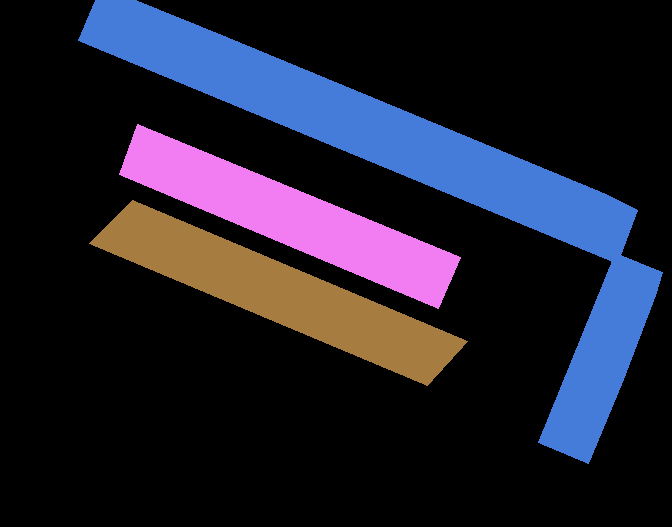parkingspot: (78, 0, 637, 263), (89, 200, 467, 385), (119, 124, 460, 308), (538, 253, 662, 463)
